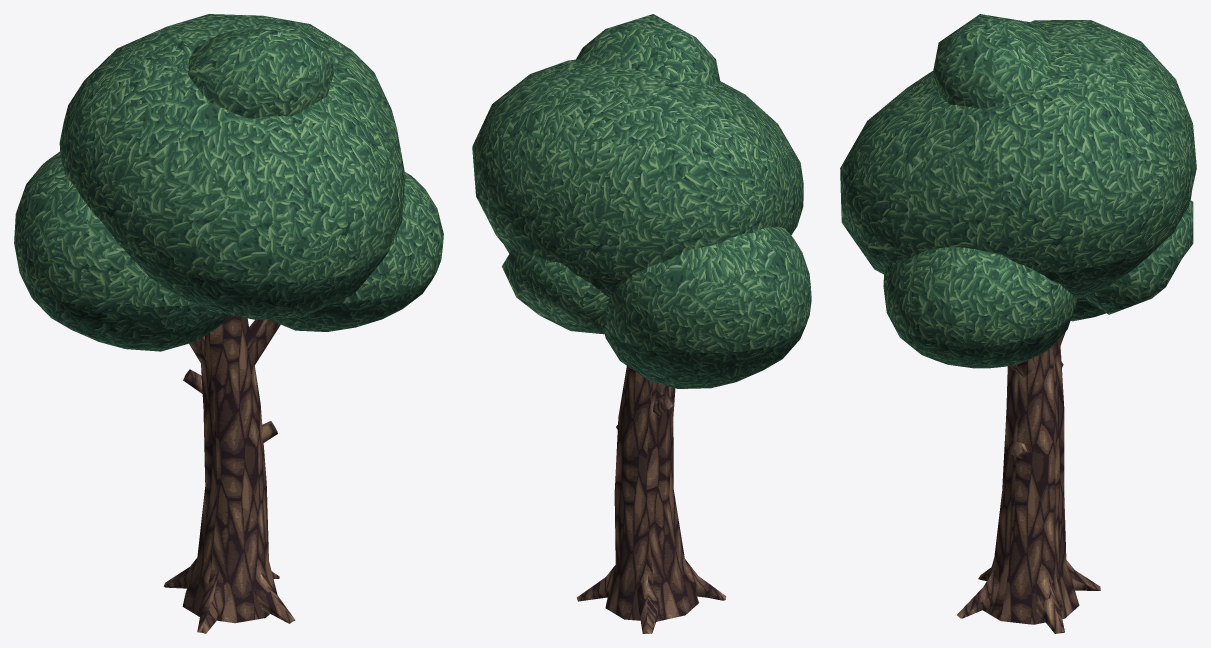
Rendered from tree_large.glb.
3 views of the same model, side by side, from view 1: azimuth 30°, elevation 25°; view 2: azimuth 150°, elevation 25°; view 3: azimuth 270°, elevation 25° (orthographic). The views are drawn at different scales.
Parts seen in each view (by area): view 1: Tree; view 2: Tree; view 3: Tree.
Boxes of the visible parts, bbox=[...] form: Tree: bbox=[14, 14, 443, 633]; Tree: bbox=[472, 14, 811, 633]; Tree: bbox=[840, 14, 1196, 633].
Size of the model in its own units: 3.8 by 5.95 by 3.27.
Materials: 3 (3 with a texture image).
